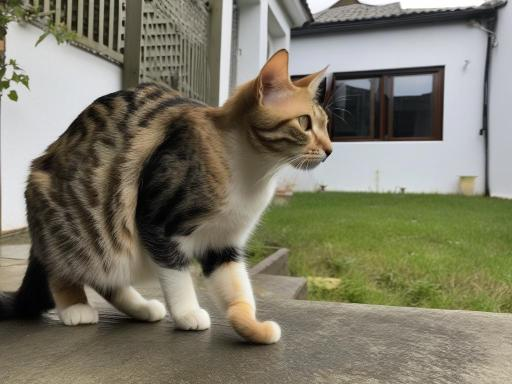cat_standing: (0, 49, 332, 344)
